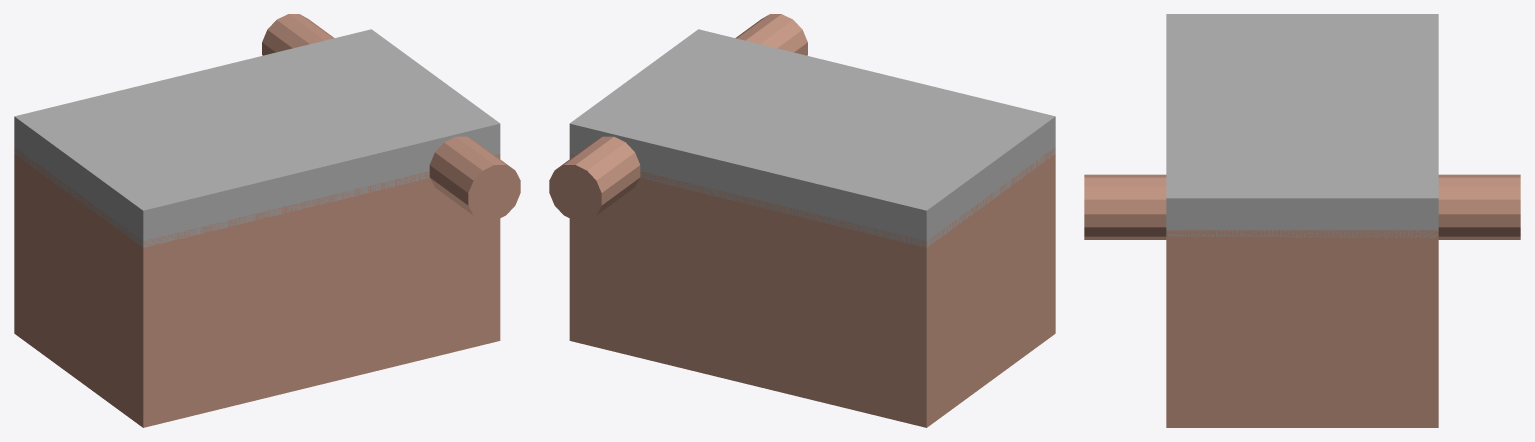
The model's file is rodman_candleworks.glb.
The picture shows the model from 3 angles, left to right: view 1: azimuth 30°, elevation 25°; view 2: azimuth 150°, elevation 25°; view 3: azimuth 270°, elevation 25°; orthographic projection. The views are drawn at different scales.
Parts seen in each view (by area): view 1: body, sawtooth, chimney; view 2: body, sawtooth, chimney; view 3: sawtooth, body, chimney.
Part boxes in pixels (x1,y1,x2,y2): body: (14,147,500,427); sawtooth: (14,29,500,247); chimney: (262,14,520,221); body: (569,147,1055,427); sawtooth: (569,29,1055,247); chimney: (549,14,807,221); sawtooth: (1166,14,1438,237); body: (1166,230,1438,427); chimney: (1084,174,1520,239).
Bounding box in the file's own units: 16 × 9.3 × 16.
